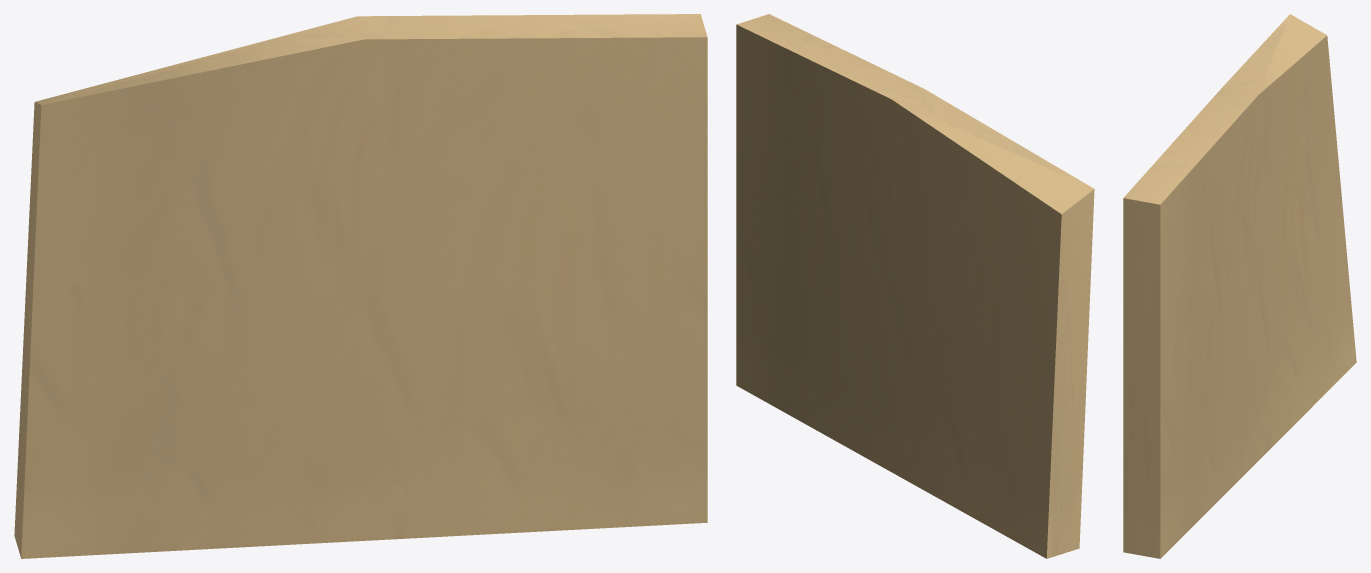
The model's file is WallE.FBX.
3 views of the same model, side by side, from view 1: azimuth 30°, elevation 25°; view 2: azimuth 150°, elevation 25°; view 3: azimuth 270°, elevation 25° (orthographic). The views are drawn at different scales.
Visible parts, largest first — view 1: WallE; view 2: WallE; view 3: WallE.
Boxes of the visible parts, x1,y1,x2,y2 form: WallE: (14,14,707,558); WallE: (736,14,1094,558); WallE: (1123,14,1356,558).
Size of the model in its own units: 23.81 by 11.57 by 20.
1 material, 1 textured.
